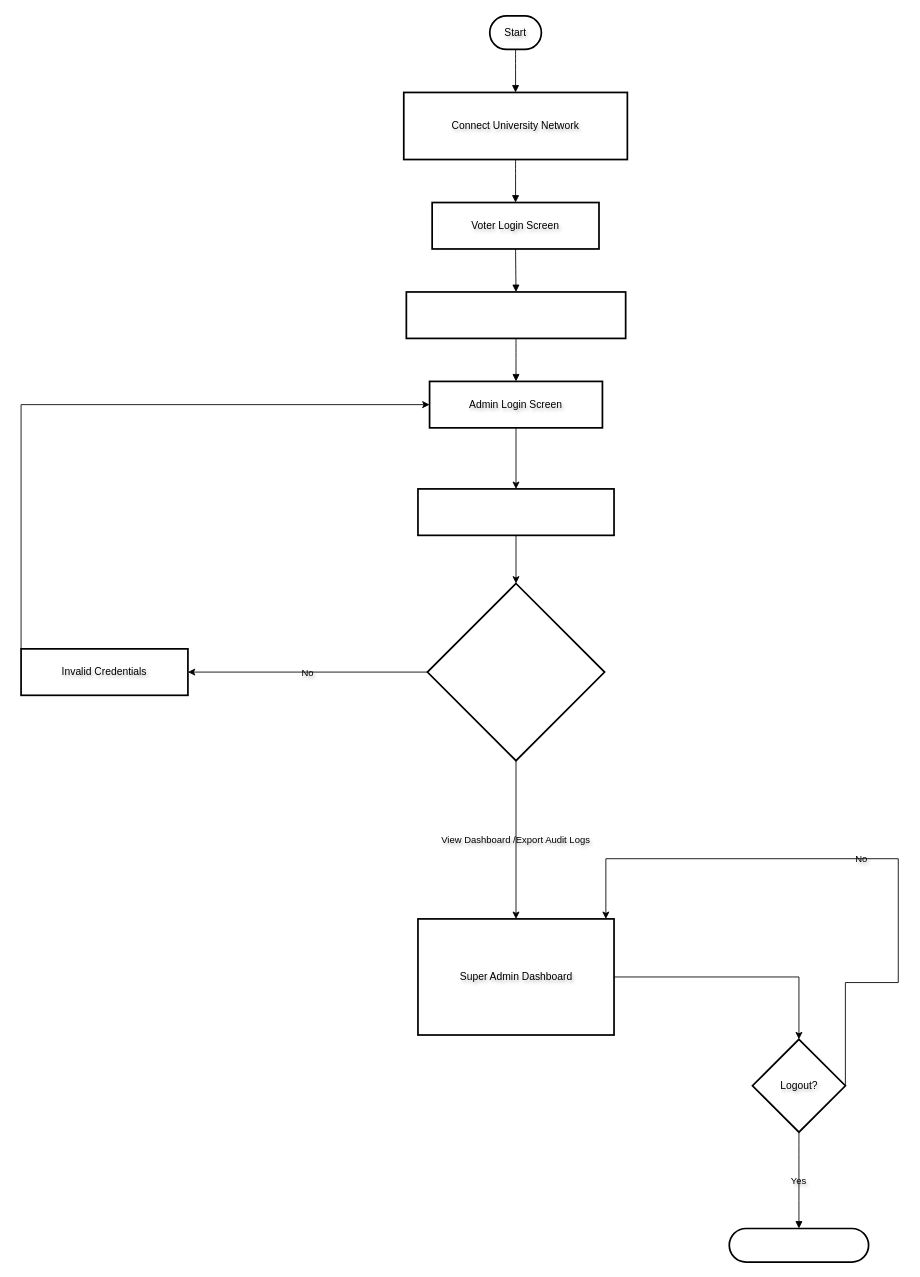
This 920x1277 diagram has some shape labels left out. The centre of each missing label's shape, as x and y in pixels:
Authentication Valid?: the point at 515,671
End: Session Ended: the point at 798,1244
Enter Login Credentials: the point at 515,512
Hidden Admin Login Button: the point at 515,315
